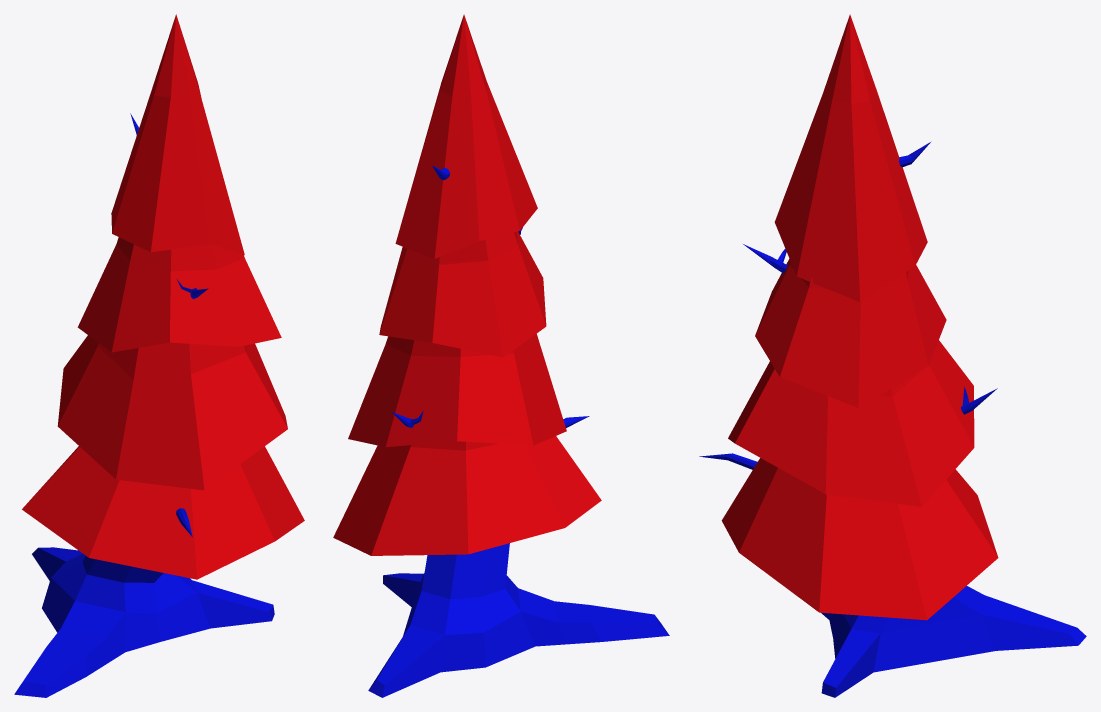
File: SM_Conifer4.fbx
3 renders of one model, left to right at view 1: azimuth 30°, elevation 25°; view 2: azimuth 150°, elevation 25°; view 3: azimuth 270°, elevation 25°, orthographic. The views are drawn at different scales.
Parts seen in each view (by area): view 1: SM_Conifer4; view 2: SM_Conifer4; view 3: SM_Conifer4.
Boxes of the visible parts, left/top/right/bottom form: SM_Conifer4: left=14, top=14, right=304, bottom=697; SM_Conifer4: left=333, top=14, right=669, bottom=697; SM_Conifer4: left=699, top=14, right=1086, bottom=697.
Bounding box in the file's own units: 171 × 335 × 185.
